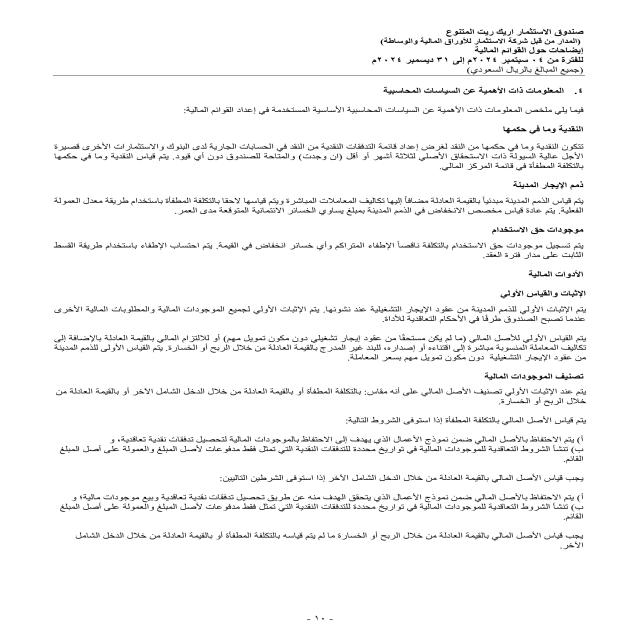notes: (465, 46, 587, 56)
text: (40, 84, 597, 554)
